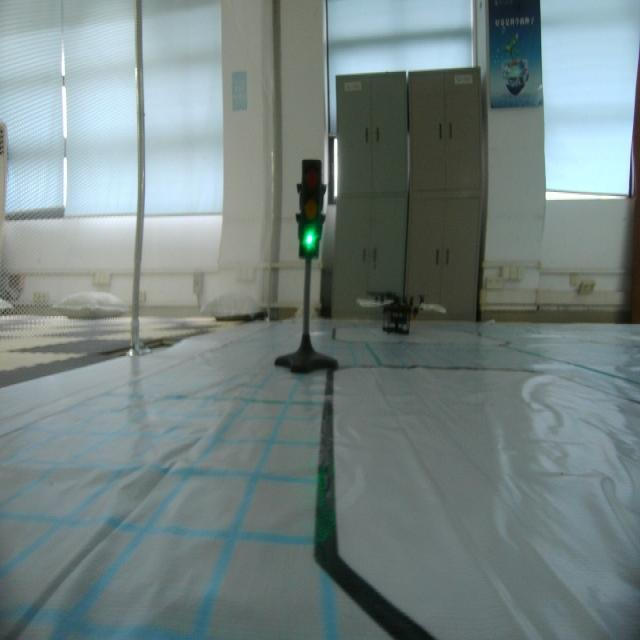green: (292, 153, 326, 259)
